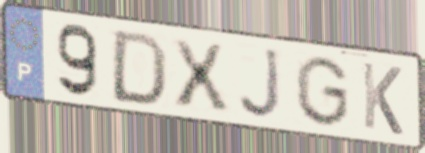9: (54, 23, 100, 99)
D: (107, 27, 170, 108)
G: (292, 54, 352, 130)
J: (237, 46, 285, 123)
K: (359, 59, 406, 139)
X: (167, 36, 233, 114)
